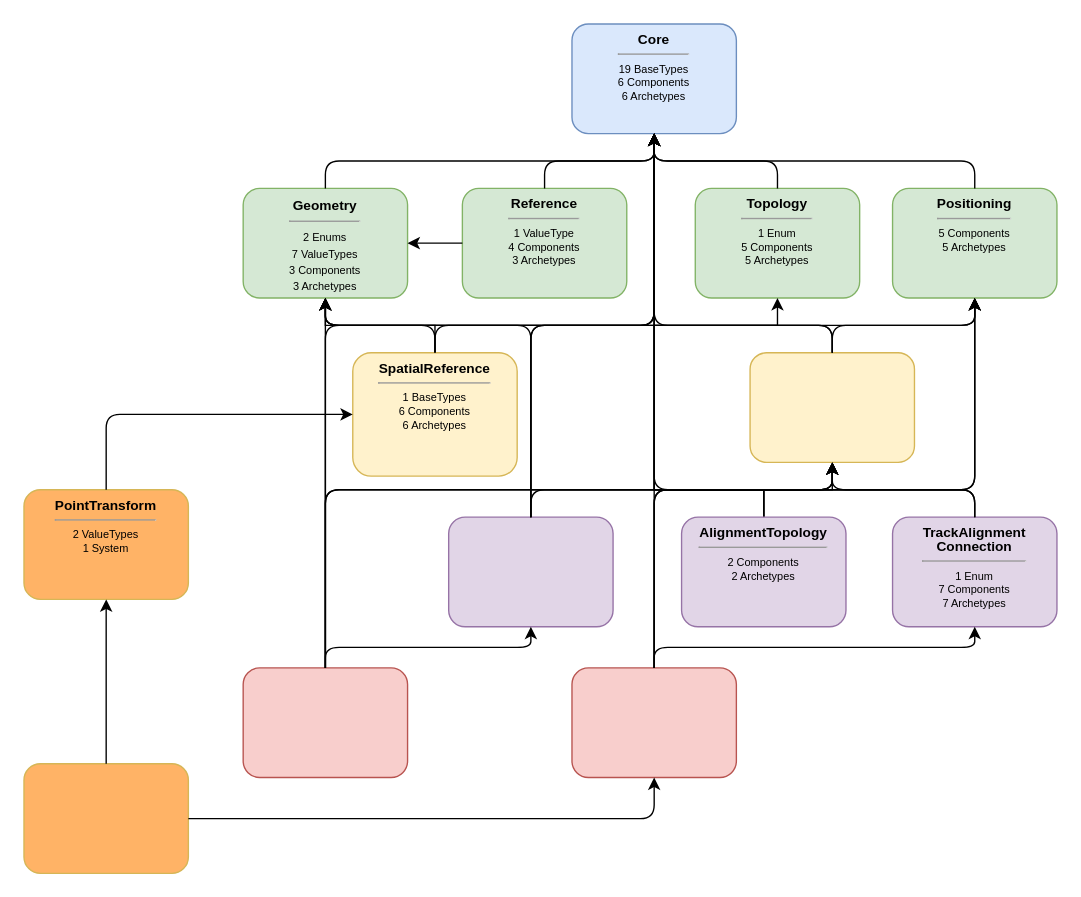
Image size: 1081x897. Some labels were removed from this diagram. Here are the shapes that lost their labels. From the top down, the box of each, then its label:
(749, 351, 914, 462): Alignment 5 Enums 15 ValueTypes 14 Components 10 Archetypes
(447, 516, 613, 627): CrossProfile 1 Enum 3 ValueTypes 3 Components 3 Archetypes
(242, 667, 408, 777): SpotPlacement 2 Enums 14 ValueTypes 1 Component 1 Archetype
(571, 667, 736, 777): Rail 1 Enum 2 ValueTypes 7 Components 7 Archetypes
(23, 762, 188, 873): AlignmentTransform 3 ValueTypes 1 System
